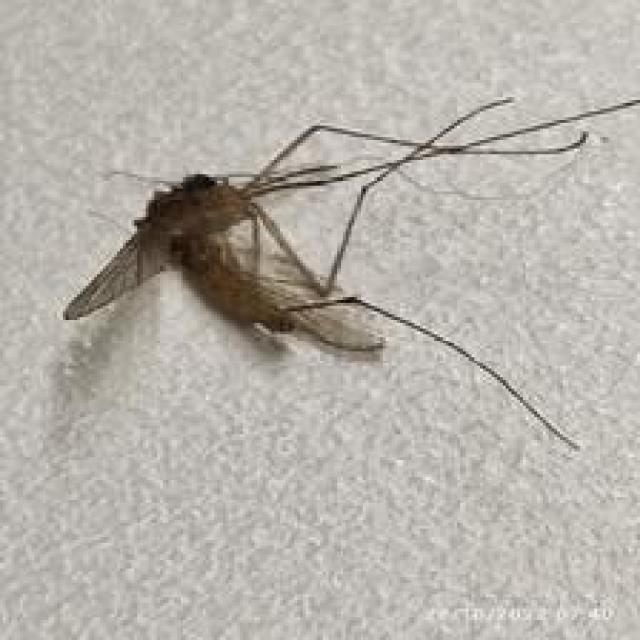Culex: (60, 89, 640, 454)
